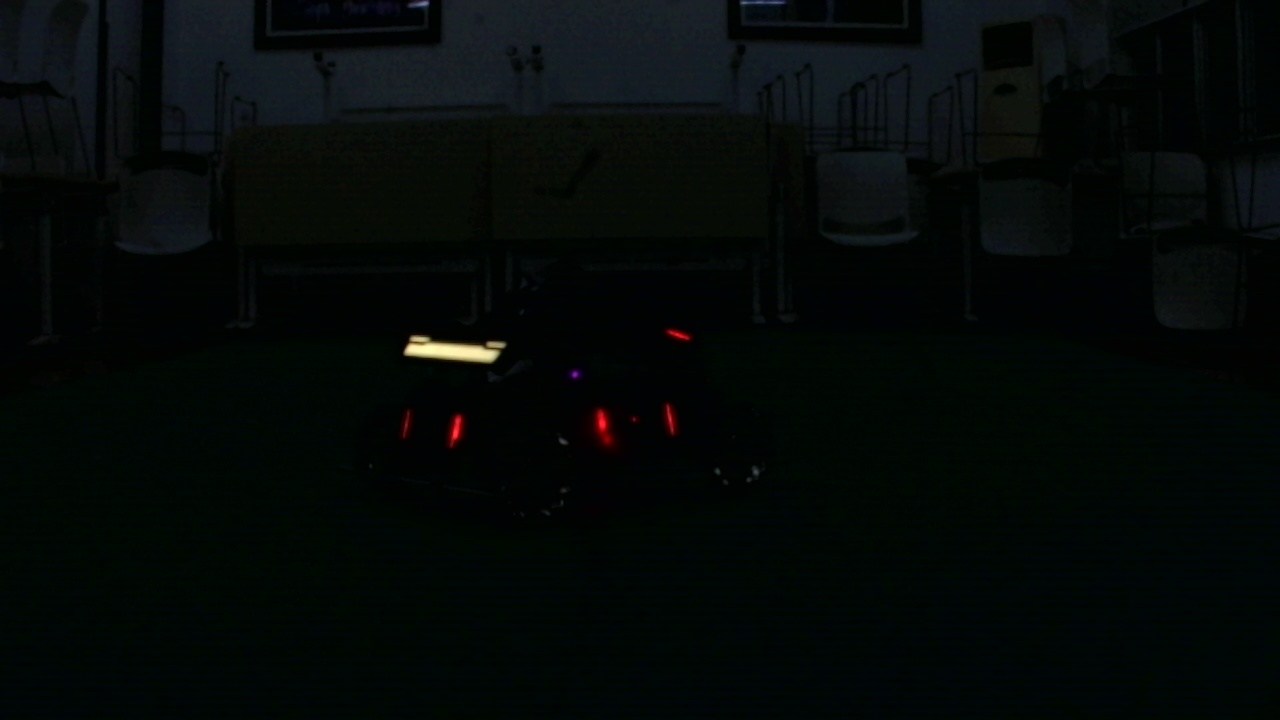lamp: (595, 404, 614, 443), (666, 394, 680, 441), (447, 408, 462, 449)
pair1: (596, 407, 678, 440)
